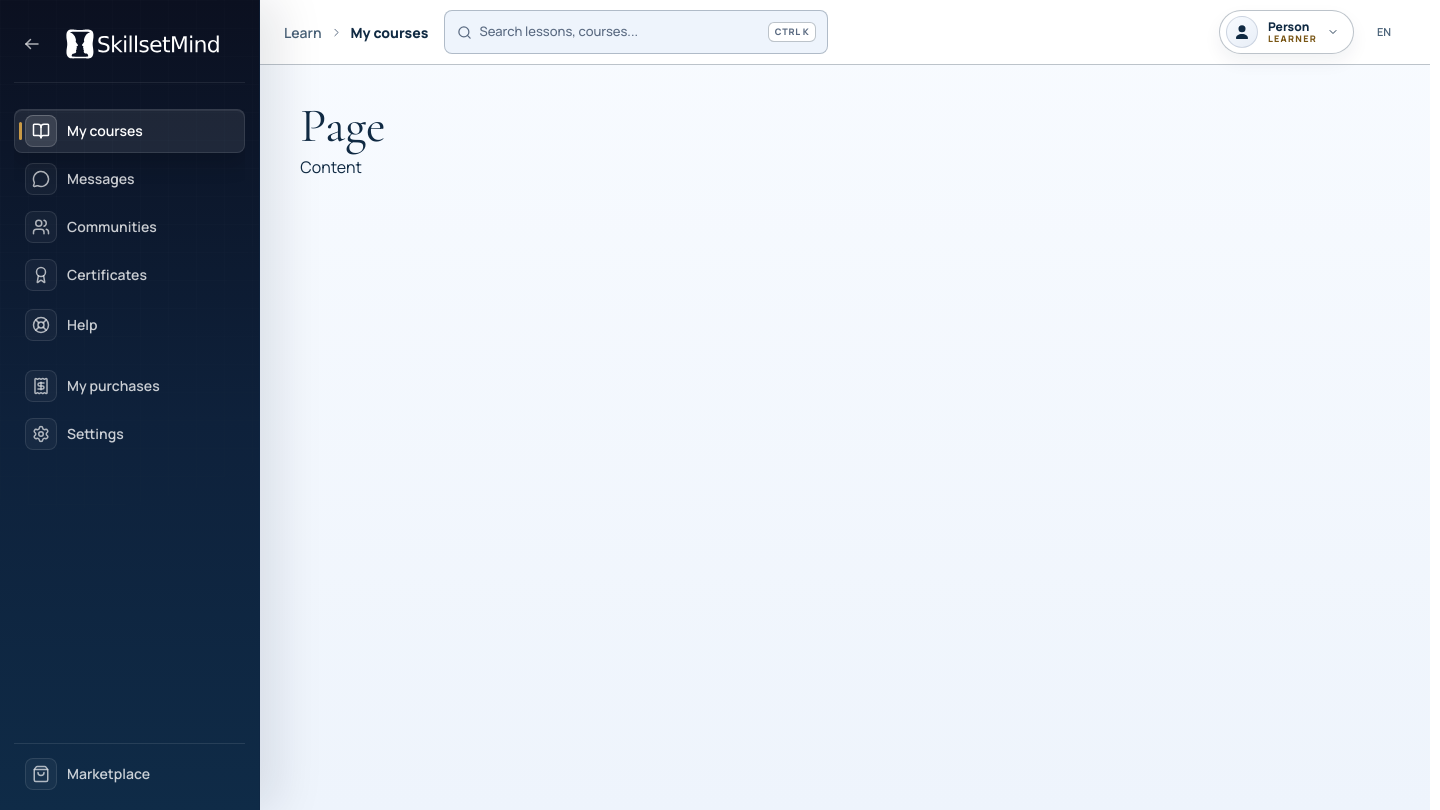
Scenario: uma Ajuda por tela › area do aluno: so a da barra lateral, nem no topo nem no menu da conta
Expected: the number of buttons "Help" is 1, [14,303,245,347]
Com o menu da conta aberto, continua uma so.
Click the button with aria-label "Open account menu".
click(1286, 32)  # box [1219,10,1354,54]
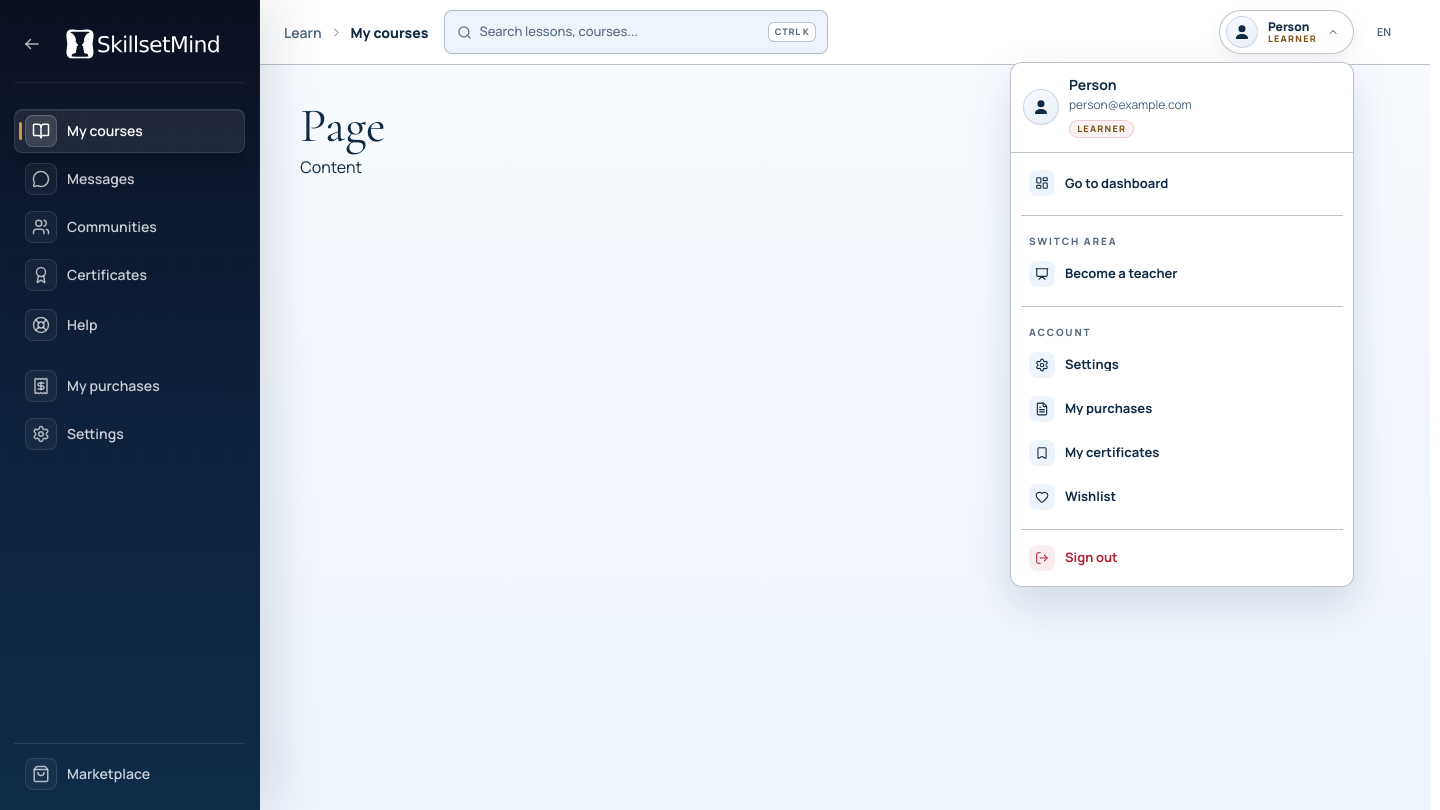
Click the button "Help".
click(130, 325)  # box [14,303,245,347]
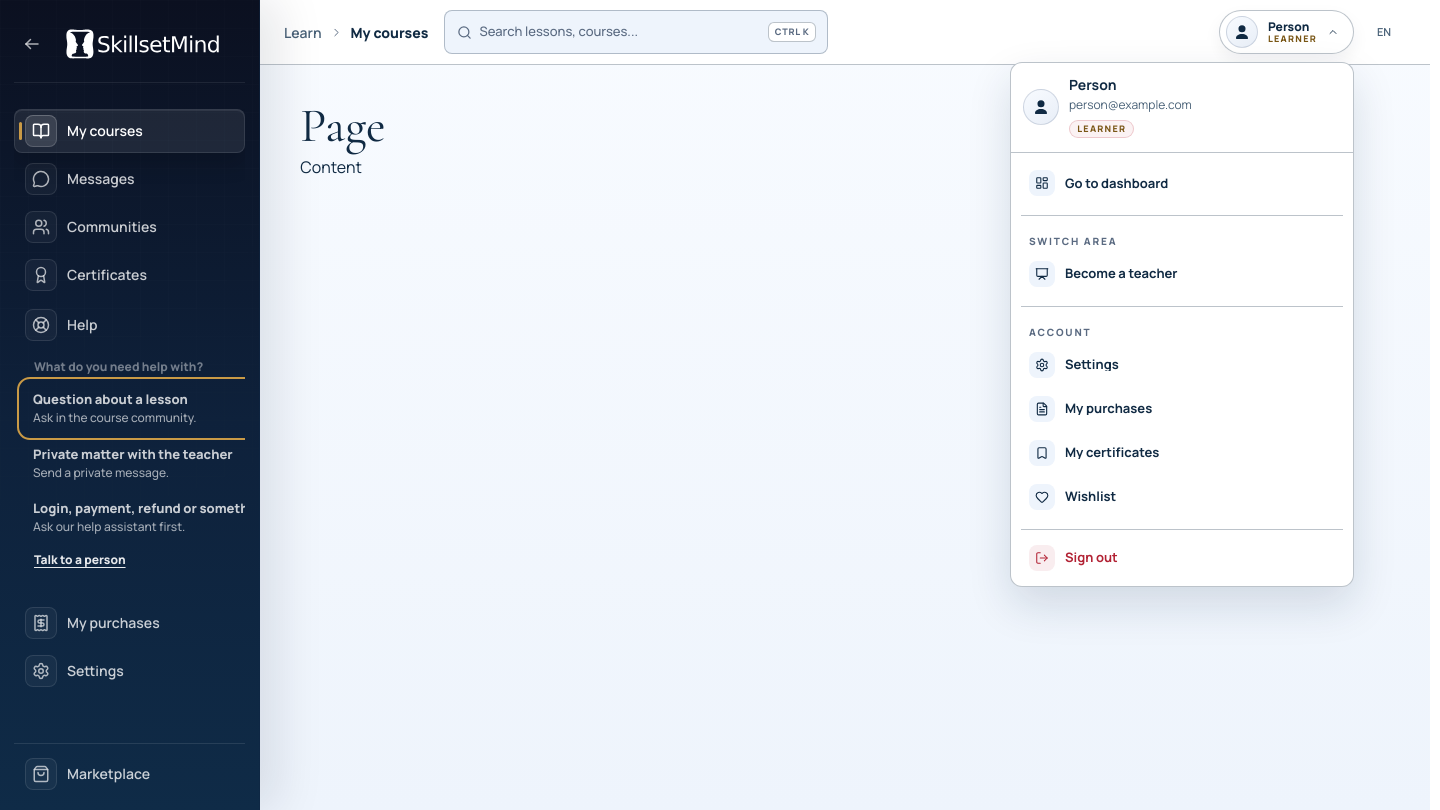
Expected: the dialog "What do you need help with?" shows "Private matter with the teacher", [22,437,245,489]
